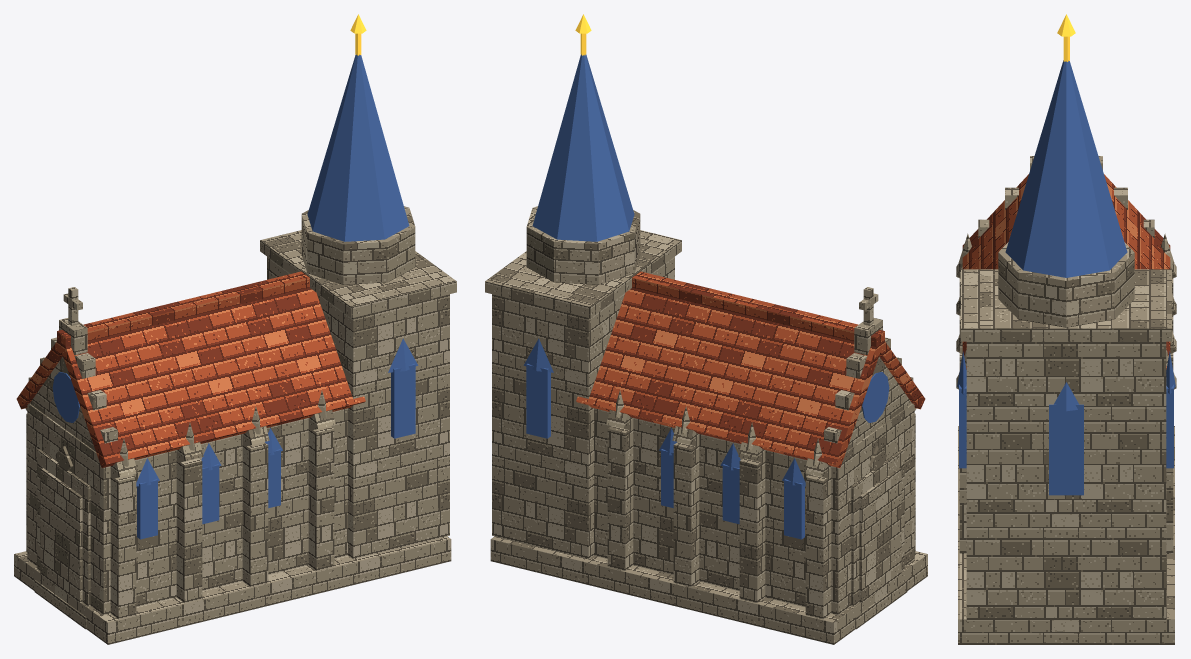
File: abbey_church_t1.glb
3 views of the same model, side by side, from view 1: azimuth 30°, elevation 25°; view 2: azimuth 150°, elevation 25°; view 3: azimuth 270°, elevation 25° (orthographic). The views are drawn at different scales.
Visible parts, largest first — view 1: nave_roof_1, crossing, nave, plinth, spire, crossing_cornice, spire_drum, archivolt_inner, ridge_cap, buttress_1_1, buttress_0_1, buttress_3_1 (+11 smaller); view 2: nave_roof_0, crossing, nave, plinth, spire, crossing_cornice, spire_drum, archivolt_inner, ridge_cap, buttress_0_0, buttress_3_0, buttress_1_0 (+11 smaller); view 3: crossing, spire, crossing_cornice, spire_drum, plinth, win_east_body, nave_roof_0, nave_roof_1, buttress_3_0, buttress_3_1, win_cross_y0_body, win_cross_y1_body (+3 smaller).
Part boxes in pixels (box(x1,y1,x2,y2)): nave_roof_1: box(59, 287, 365, 467); crossing: box(267, 256, 449, 559); nave: box(27, 403, 347, 615); plinth: box(14, 536, 451, 644); spire: box(307, 54, 409, 241); crossing_cornice: box(260, 230, 456, 317); spire_drum: box(301, 206, 415, 284); archivolt_inner: box(40, 467, 82, 602); ridge_cap: box(57, 271, 309, 347); buttress_1_1: box(176, 458, 202, 603); buttress_0_1: box(110, 474, 136, 619); buttress_3_1: box(308, 426, 334, 570); nave_roof_0: box(576, 287, 882, 467); crossing: box(492, 256, 674, 559); nave: box(594, 403, 914, 615); plinth: box(490, 536, 927, 644); spire: box(532, 54, 634, 241); crossing_cornice: box(485, 230, 681, 317); spire_drum: box(526, 206, 640, 284); archivolt_inner: box(859, 467, 901, 602); ridge_cap: box(632, 271, 884, 346); buttress_0_0: box(805, 474, 831, 619); buttress_3_0: box(607, 426, 633, 570); buttress_1_0: box(739, 458, 765, 603); crossing: box(966, 341, 1166, 620); spire: box(1005, 60, 1127, 277); crossing_cornice: box(961, 269, 1171, 341); spire_drum: box(998, 242, 1134, 327); plinth: box(958, 426, 1174, 644); win_east_body: box(1049, 404, 1083, 495); nave_roof_0: box(1104, 174, 1170, 369); nave_roof_1: box(962, 174, 1028, 369); buttress_3_0: box(1166, 468, 1173, 553); buttress_3_1: box(959, 468, 966, 553); win_cross_y0_body: box(1166, 384, 1173, 468); win_cross_y1_body: box(959, 384, 966, 468).
Size of what is drawn, in the model's own units: 3.99 by 5.69 by 1.88.
Materials: 4 (2 with a texture image).
